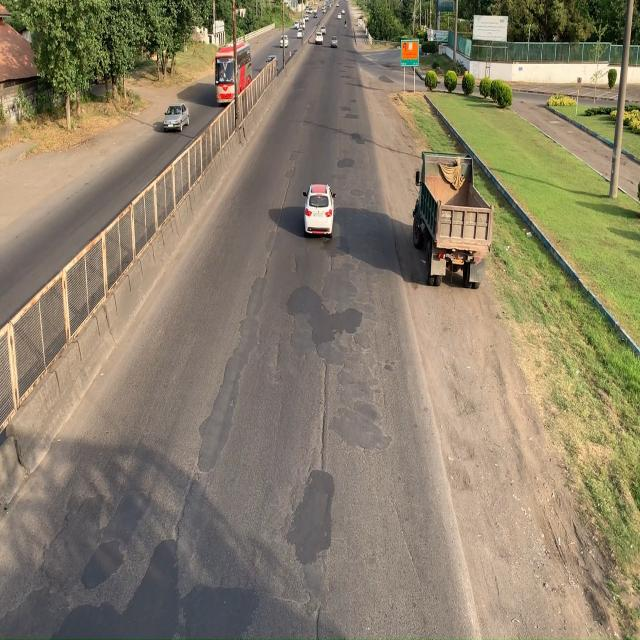Truck: (414, 152, 498, 292)
cars: (302, 180, 334, 238), (162, 102, 189, 129)
